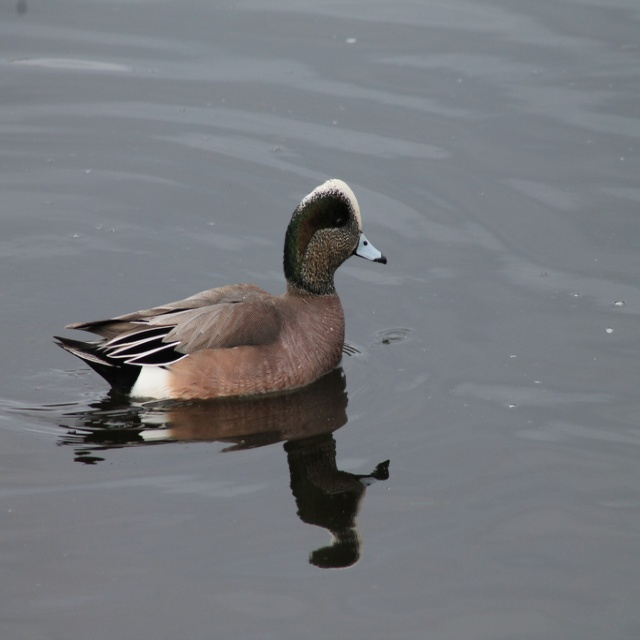Duck: (51, 177, 387, 404)
